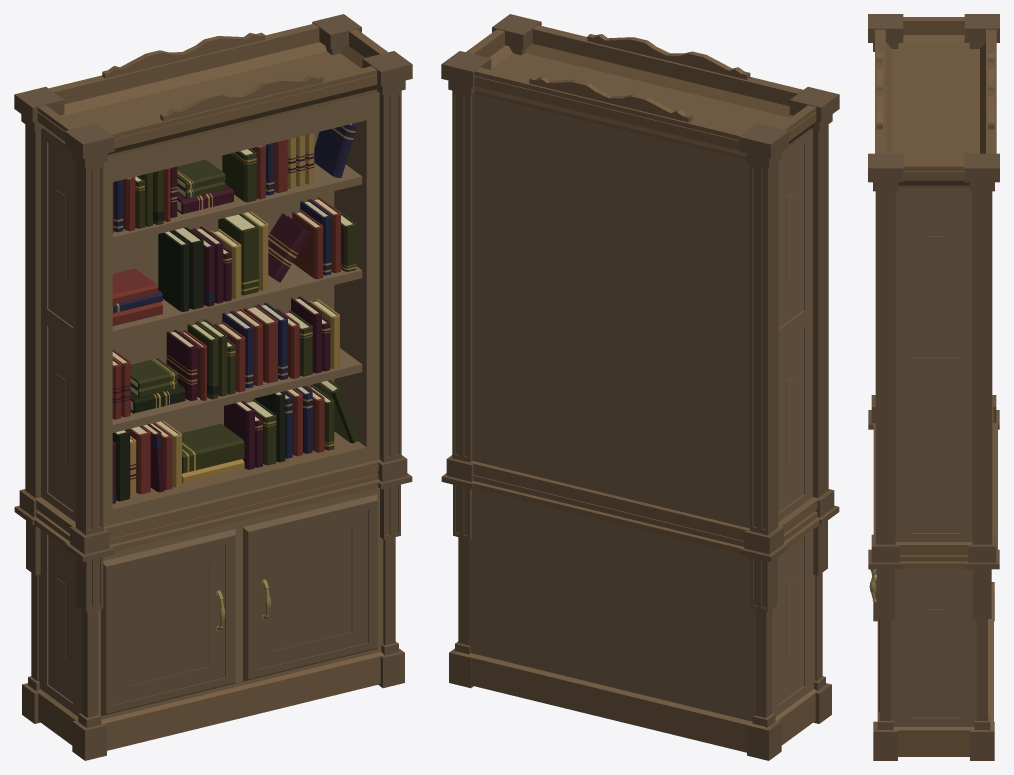
The model's file is librero.glb.
The picture shows the model from 3 angles, left to right: view 1: azimuth 30°, elevation 25°; view 2: azimuth 150°, elevation 25°; view 3: azimuth 270°, elevation 25°; orthographic projection. The views are drawn at different scales.
Parts seen in each view (by area): view 1: BookCase_Single, BookCase_RightDoor, BookCase_LeftDoor; view 2: BookCase_Single; view 3: BookCase_Single, BookCase_RightDoor.
Part boxes in pixels (x1,y1,x2,y2): BookCase_Single: [14, 14, 412, 760]; BookCase_RightDoor: [243, 494, 377, 681]; BookCase_LeftDoor: [101, 529, 235, 716]; BookCase_Single: [441, 14, 839, 760]; BookCase_Single: [868, 14, 999, 760]; BookCase_RightDoor: [869, 569, 879, 712].
Bounding box in the file's own units: 1.84 × 3.37 × 0.6644.
